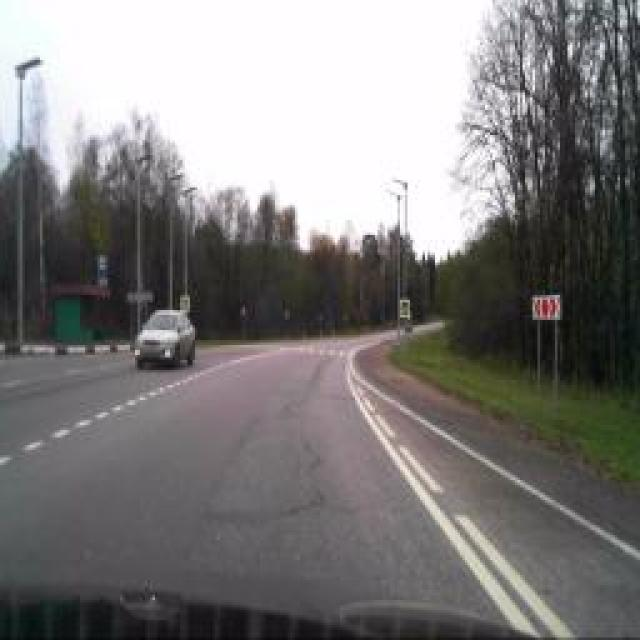sign: (399, 298, 409, 318), (180, 296, 190, 312)
